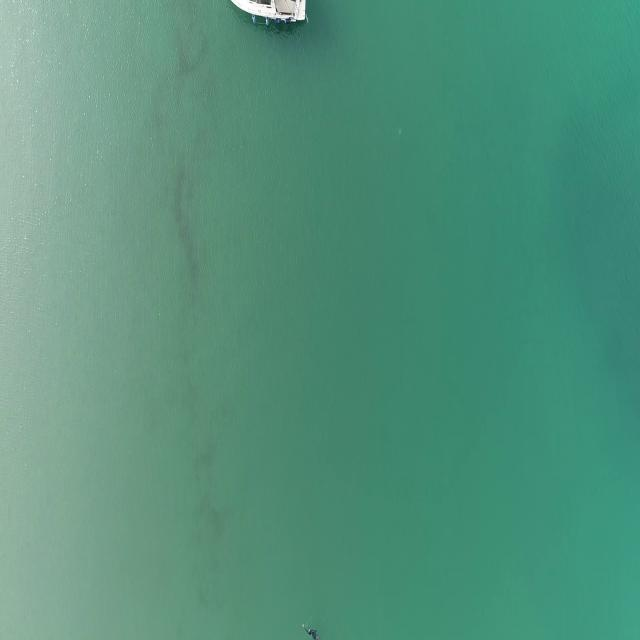boat: (231, 0, 310, 38)
person: (302, 623, 324, 640)
